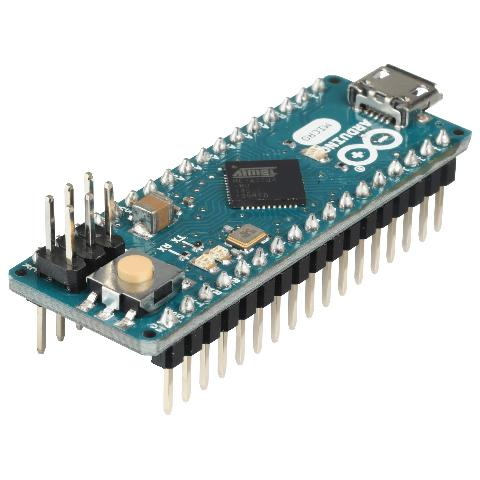Arduino-Micro: (4, 59, 478, 419)
